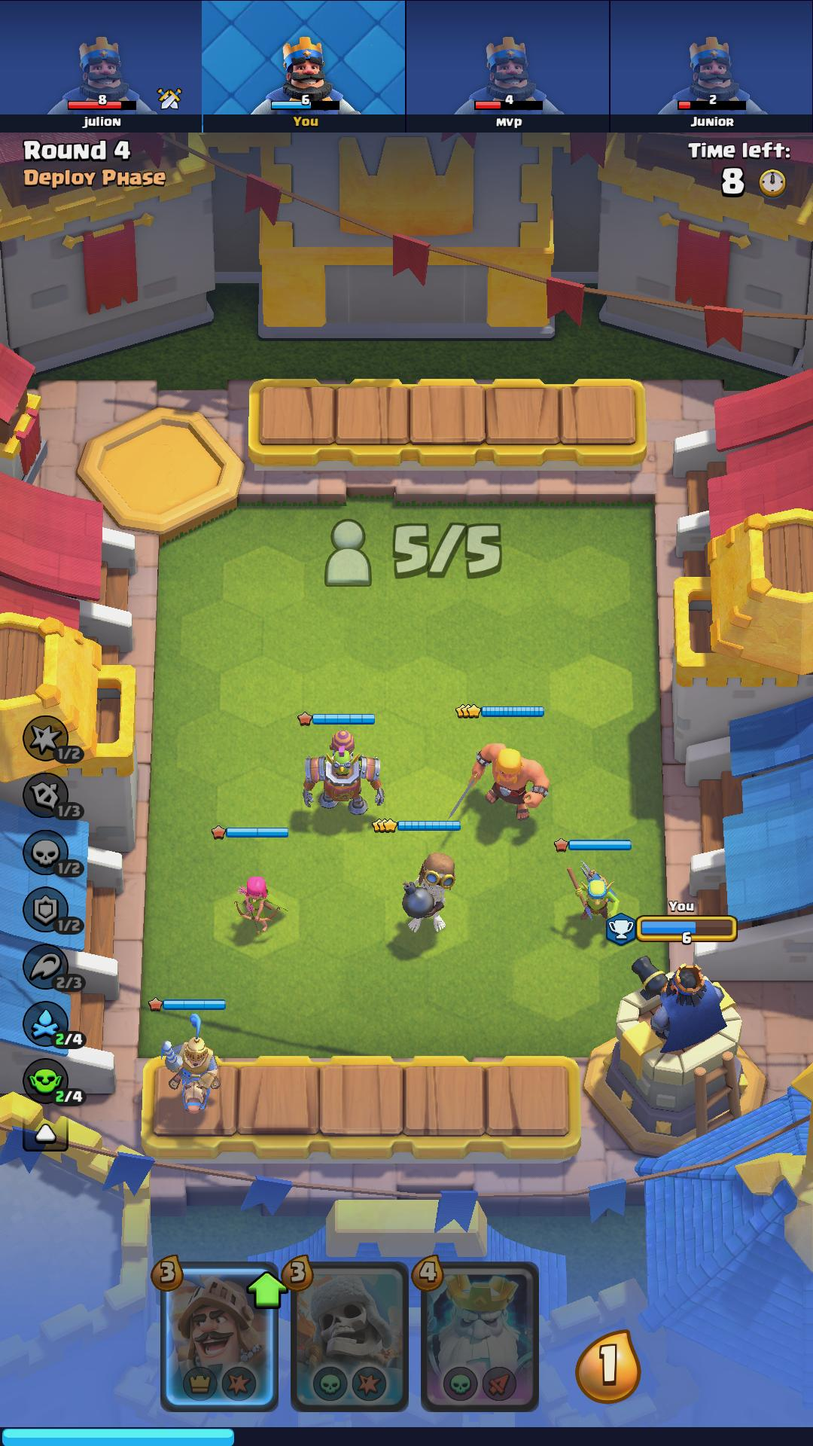archer: (234, 870, 284, 938)
barbarian: (458, 731, 549, 825)
bomber: (397, 842, 459, 938)
hand-ghost: (422, 1263, 538, 1407)
hand-giant: (294, 1264, 405, 1408)
hand-prince: (162, 1267, 276, 1408)
machine: (303, 728, 383, 819)
prince: (157, 1019, 225, 1114)
spear: (567, 855, 623, 925)
upgrade: (248, 1265, 286, 1310)
